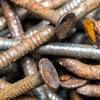rust: (6, 1, 74, 36), (58, 56, 100, 78), (3, 74, 42, 97), (42, 59, 61, 90), (82, 19, 100, 43)
